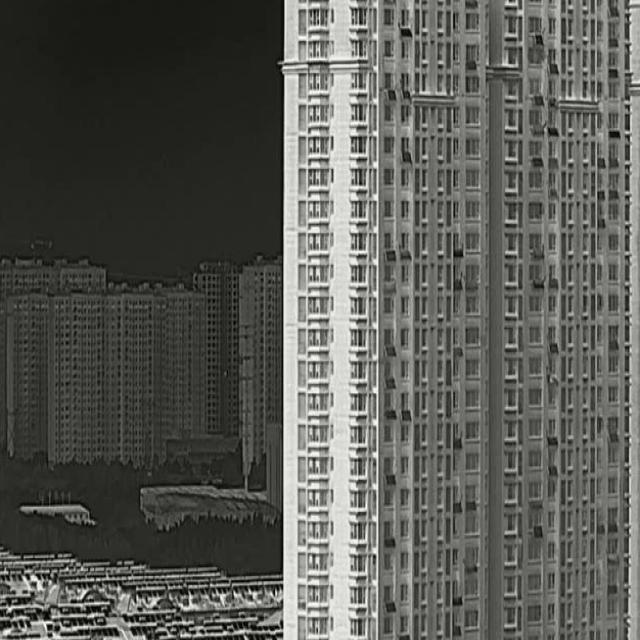drone: (223, 371, 227, 378)
